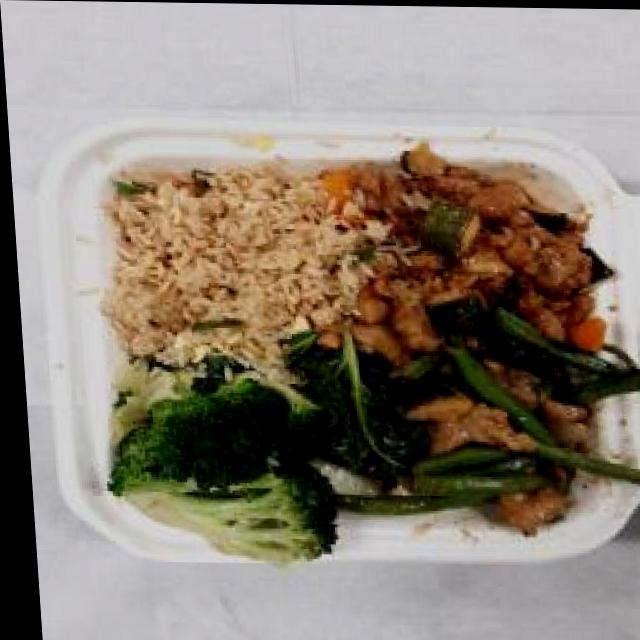Fried Rice: (91, 161, 357, 367)
Kung Pao Chicken: (317, 144, 613, 360)
String Bean Chicken Breast: (346, 317, 640, 535)
Super Greens: (98, 351, 397, 557)
